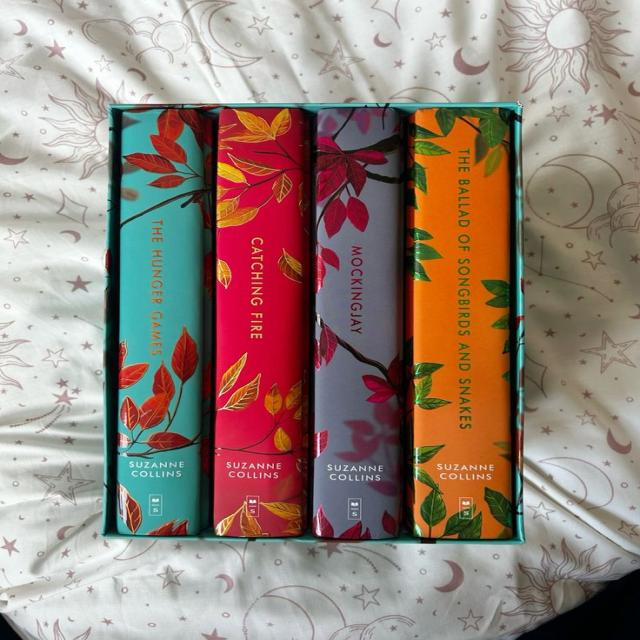book: (406, 108, 522, 539), (215, 108, 309, 536), (117, 110, 210, 535), (313, 110, 403, 539)
